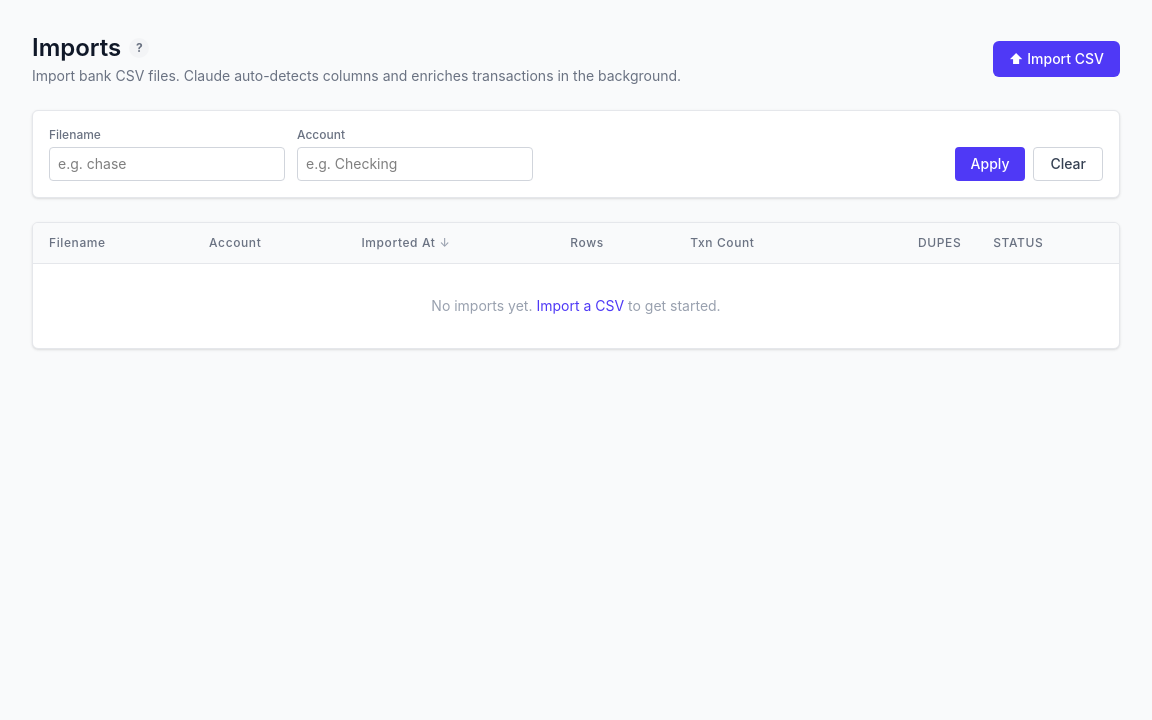
ImportsPage › closes import form and resets it on Cancel click
What coordinates should you click on to do the following:
click the button "⬆ Import CSV"
I would click on:
 (1056, 59)
Its box is [993,41,1120,77].
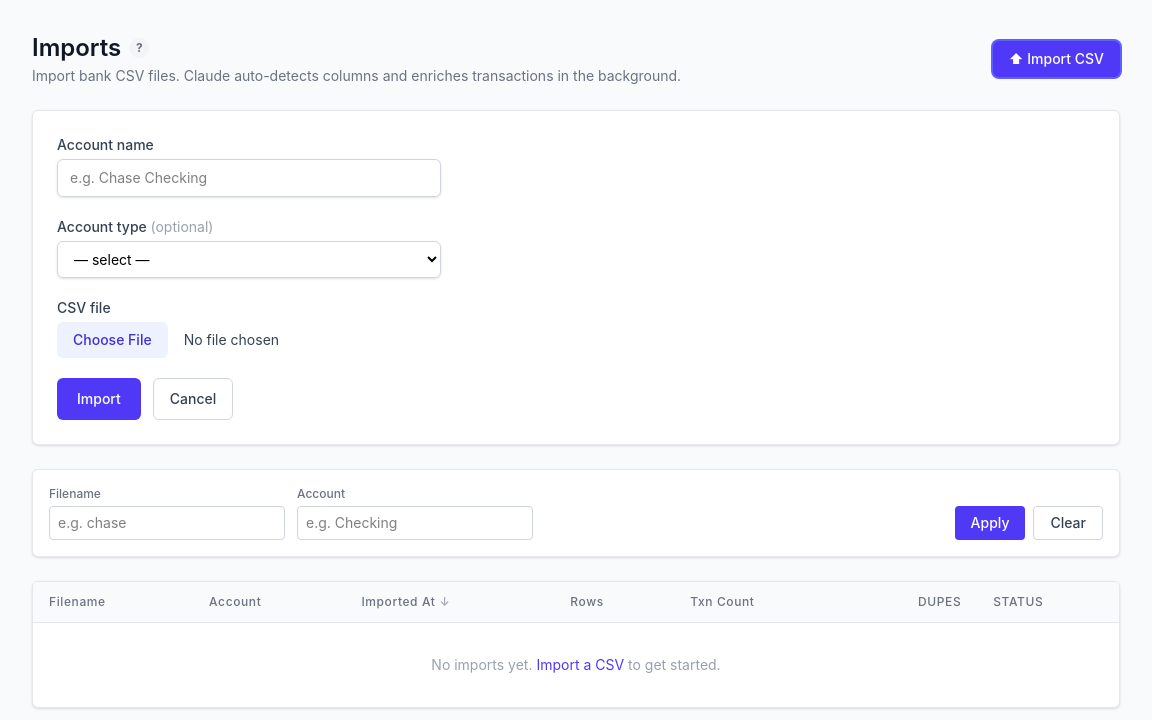
Expected: the field labelled "Account name" is shown, [57,159,441,197]
What coordinates should you click on to do the following:
click the button "Cancel"
I would click on:
 (193, 399)
Its box is [153,378,233,420].
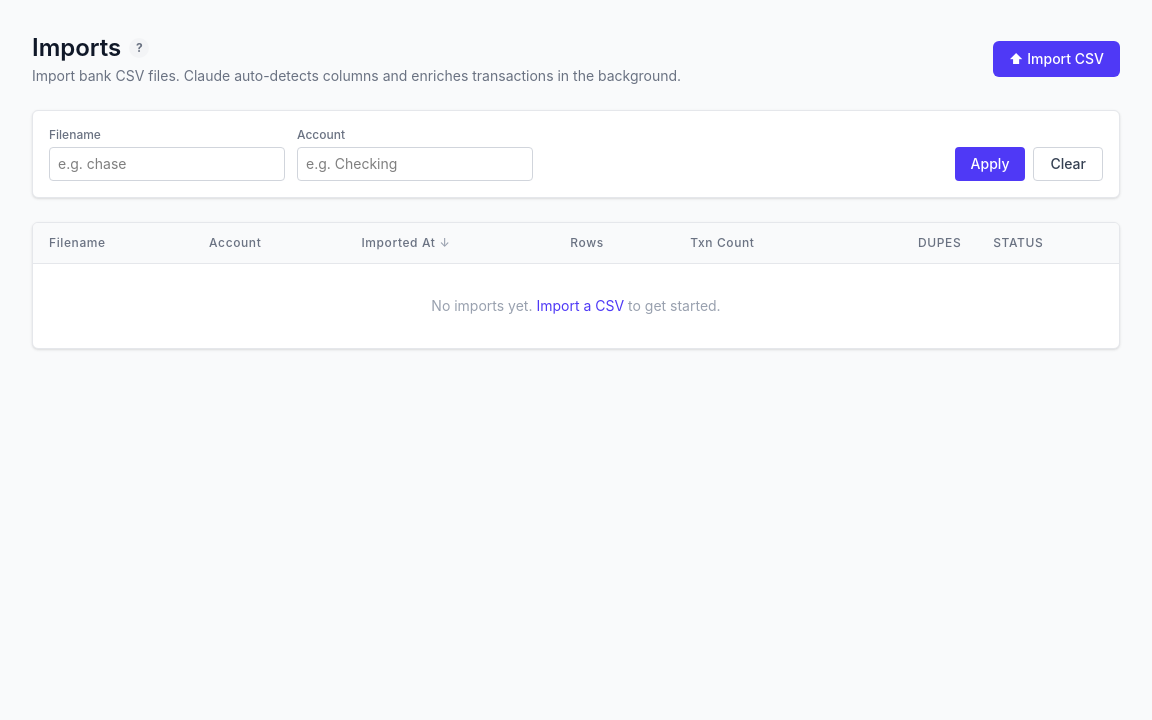
Expected: the label labelled "Account name" is gone
